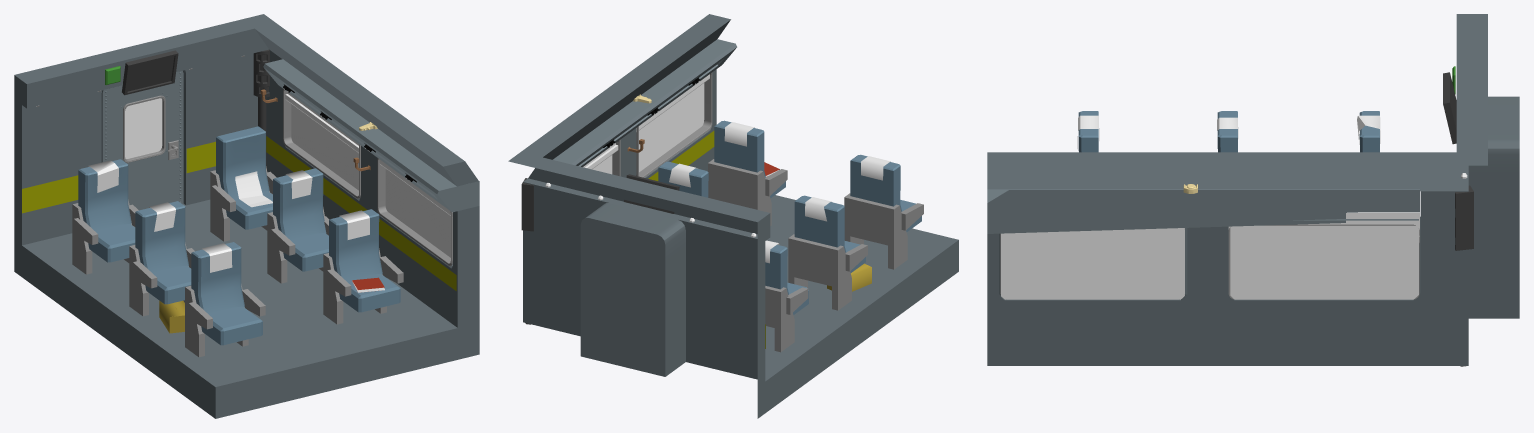
The model's file is INSIDE.fbx.
3 renders of one model, left to right at view 1: azimuth 30°, elevation 25°; view 2: azimuth 150°, elevation 25°; view 3: azimuth 270°, elevation 25°, orthographic. The views are drawn at different scales.
Parts seen in each view (by area): view 1: polySurface12, pCube2 (×6), pCube3 (×6), polySurface6, pCube49, pPlane3 (×6), polySurface11, pPlane6, polySurface9, polySurface16, TV, pCube4 (×2) (+17 smaller); view 2: polySurface12, polySurface13, pCube2 (×5), pCube4 (×2), pCube49, polySurface11, pCube84, pPlane3 (×4), pCube76, polySurface15, pPlane6, PIPE (+1 smaller); view 3: polySurface12, pCube49, polySurface9, polySurface11, pCube2 (×3), PIPE, pCube18, TV, polySurface14.
Part boxes in pixels (x1,y1,x2,y2): polySurface12: [14, 14, 479, 418]; pCube2 (×6): [78, 126, 382, 314]; pCube3 (×6): [88, 191, 400, 345]; polySurface6: [101, 70, 183, 210]; pCube49: [263, 59, 479, 212]; pPlane3 (×6): [88, 160, 369, 272]; polySurface11: [385, 168, 450, 257]; pPlane6: [266, 136, 456, 290]; polySurface9: [291, 104, 358, 190]; polySurface16: [125, 98, 162, 158]; TV: [122, 50, 178, 95]; pCube4 (×2): [129, 242, 248, 357]; polySurface12: [508, 14, 958, 418]; polySurface13: [580, 218, 665, 376]; pCube2 (×5): [658, 120, 901, 294]; pCube4 (×2): [788, 193, 907, 310]; pCube49: [553, 39, 736, 166]; polySurface11: [639, 83, 704, 172]; pCube84: [708, 159, 771, 225]; pPlane3 (×4): [669, 122, 890, 221]; pCube76: [765, 286, 794, 352]; polySurface15: [636, 72, 712, 177]; pPlane6: [648, 131, 714, 180]; PIPE: [521, 178, 533, 324]; polySurface12: [987, 14, 1519, 365]; pCube49: [987, 189, 1419, 233]; polySurface9: [1230, 225, 1418, 299]; polySurface11: [1001, 228, 1184, 299]; pCube2 (×3): [1078, 111, 1379, 152]; PIPE: [1455, 185, 1473, 366]; pCube18: [1228, 212, 1419, 242]; TV: [1443, 72, 1456, 144]; polySurface14: [1228, 224, 1419, 299].
Size of the model in its own units: 48.01 by 34.12 by 67.26.
